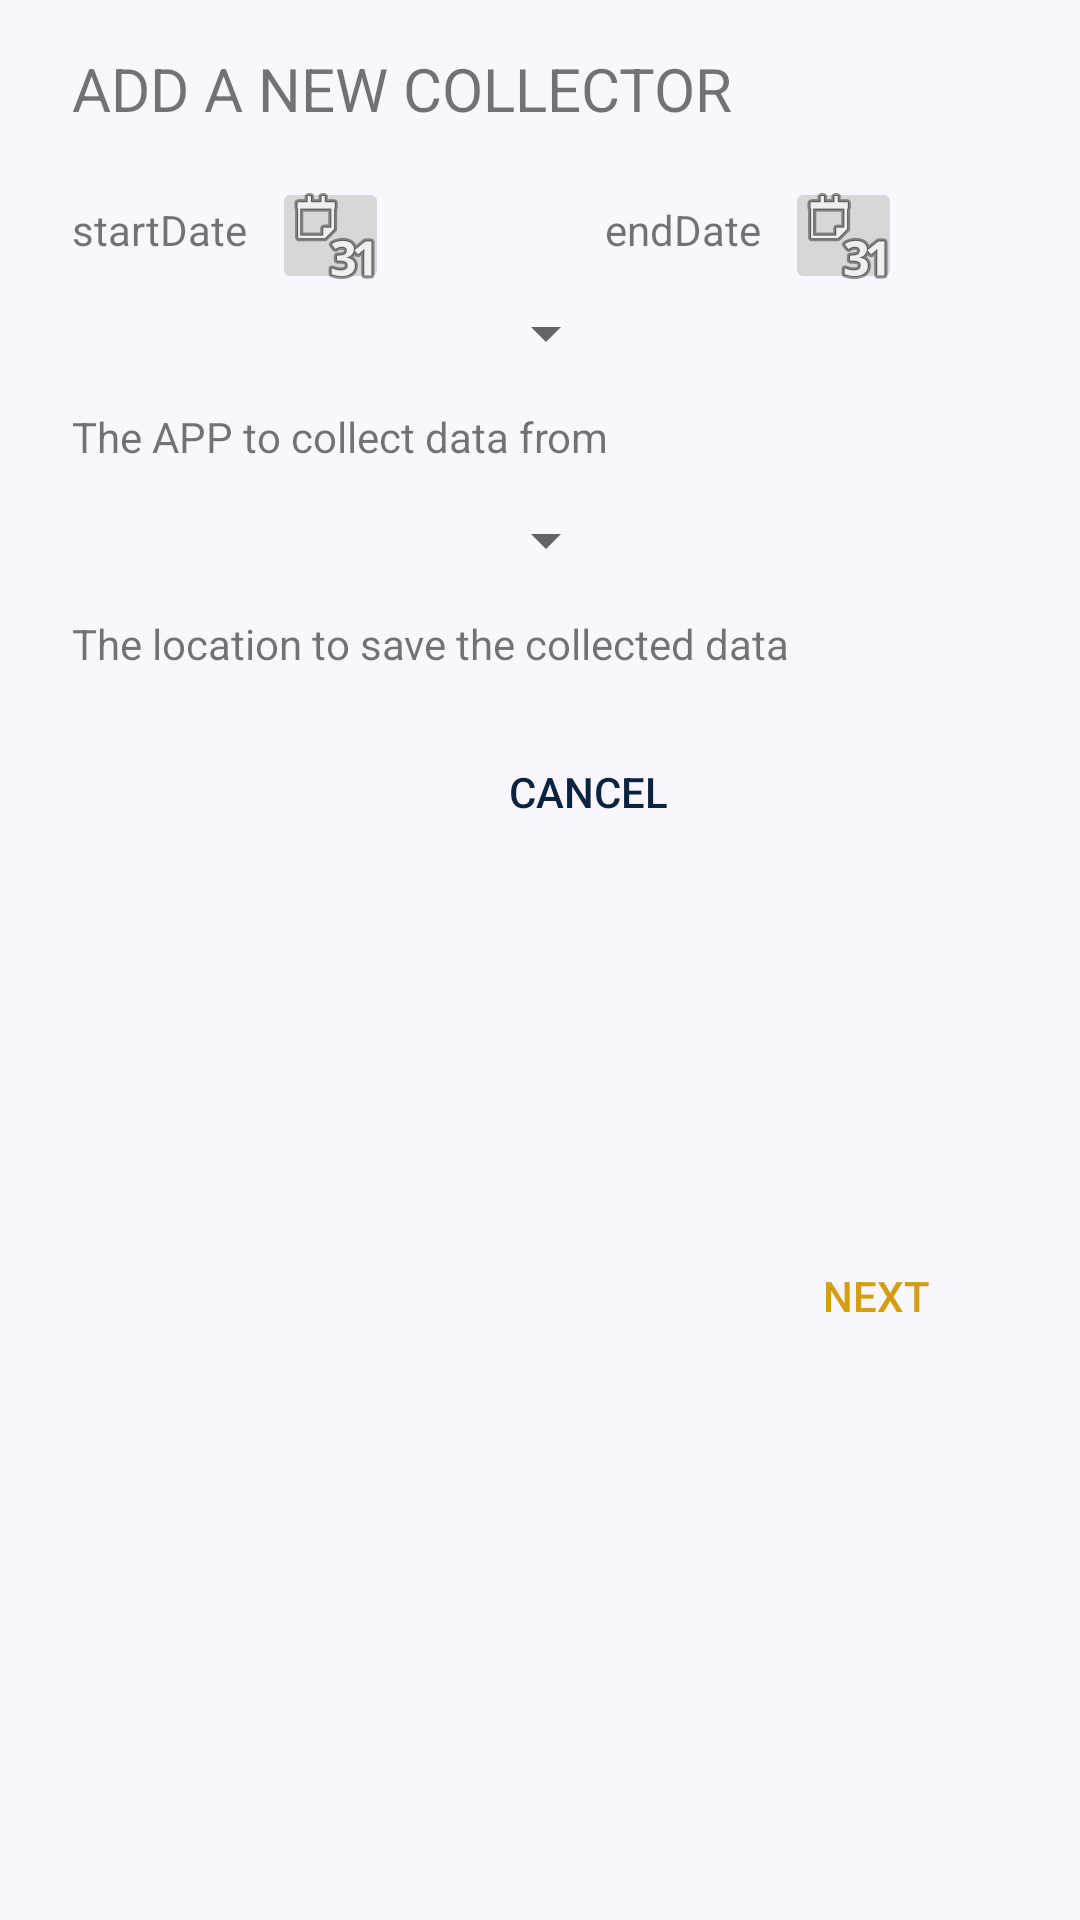

Point at icon controls on the screen. Image size 1080 × 1920, points as point (x, y).
month: point (330, 236), point (843, 236)
